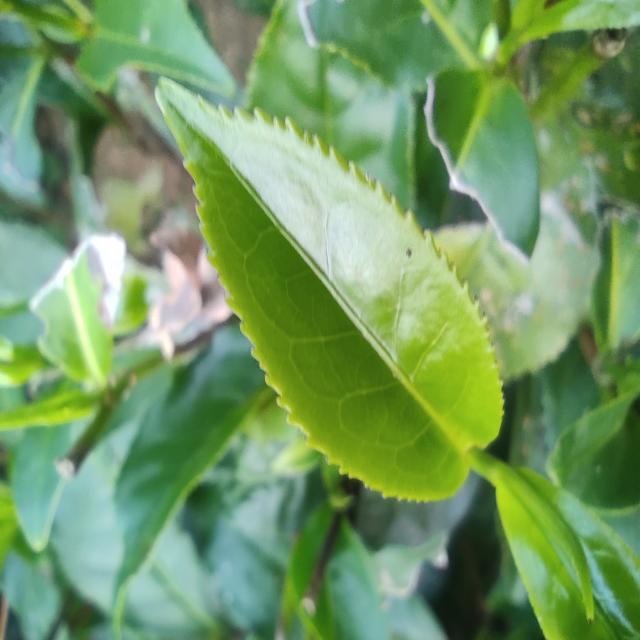Category C(4-7 days): (126, 38, 519, 534)
